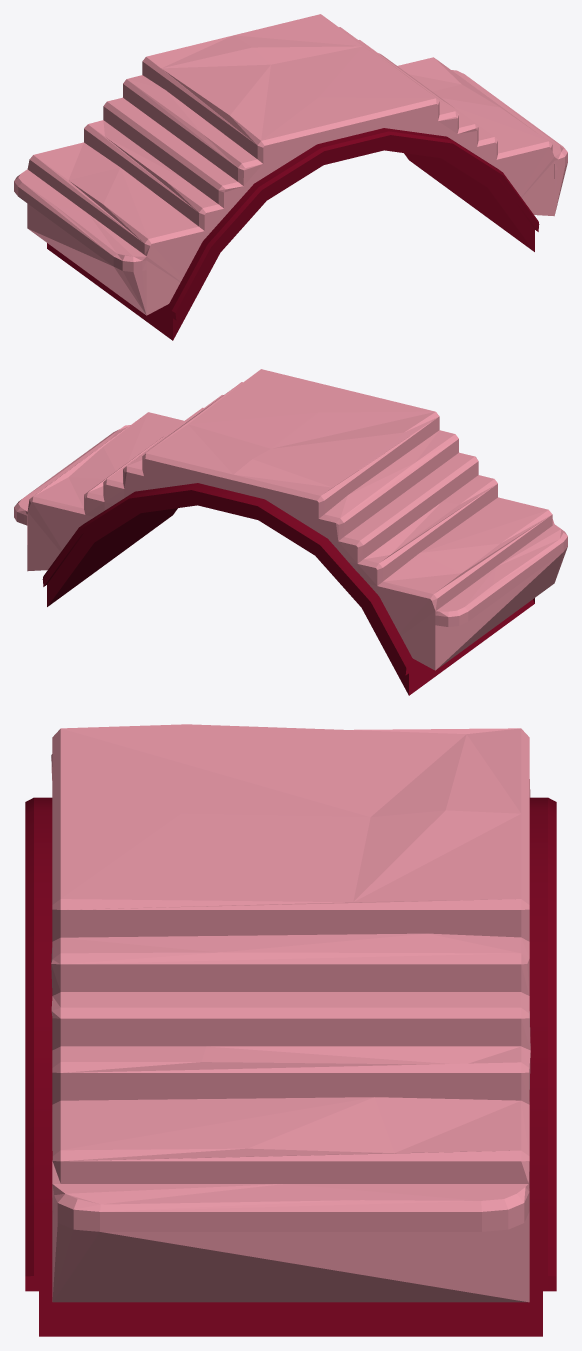
Rendered from Brücke.FBX.
3 renders of one model, top to bottom at view 1: azimuth 30°, elevation 25°; view 2: azimuth 150°, elevation 25°; view 3: azimuth 270°, elevation 25°, orthographic. The views are drawn at different scales.
Parts seen in each view (by area): view 1: Brücke; view 2: Brücke; view 3: Brücke.
Boxes of the visible parts, x1=… form: Brücke: x1=14, y1=14, x2=567, y2=340; Brücke: x1=14, y1=369, x2=567, y2=695; Brücke: x1=25, y1=724, x2=556, y2=1336.
Size of the model in its own units: 99.09 by 36.9 by 50.67.
